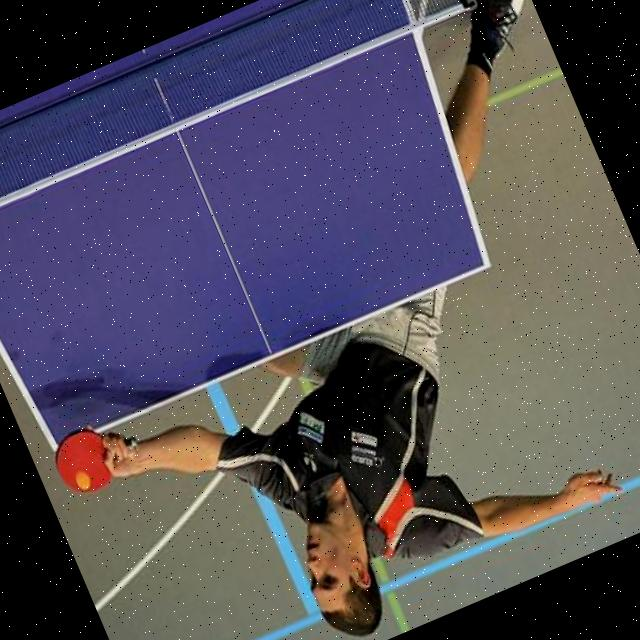ping-pong-ball: (71, 468, 92, 492)
